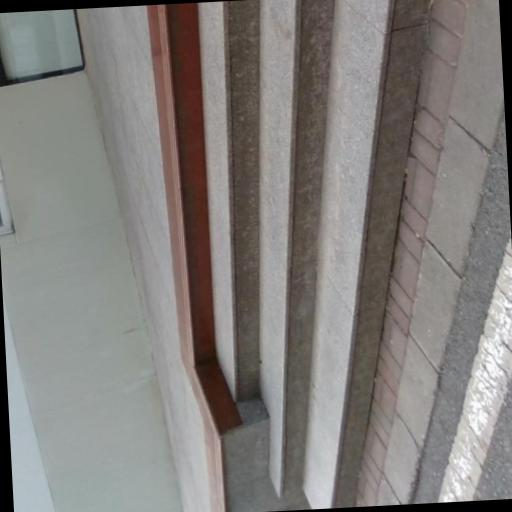stairs: (200, 0, 429, 508)
